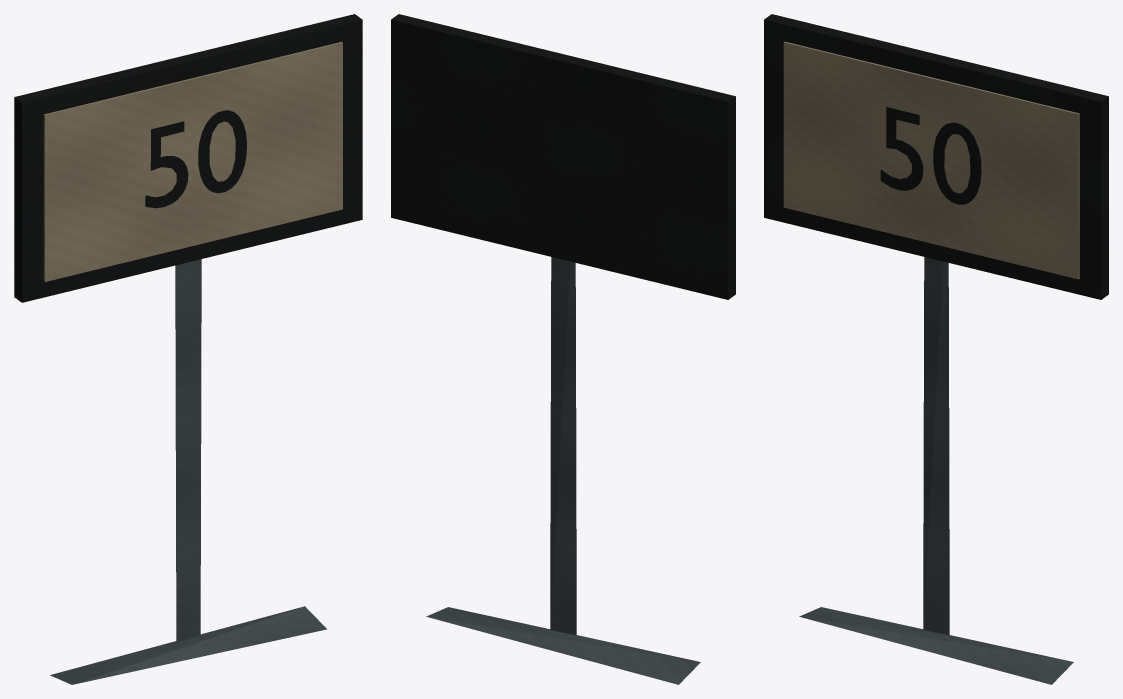
The model's file is braking-board-50-lod.glb.
The picture shows the model from 3 angles, left to right: view 1: azimuth 30°, elevation 25°; view 2: azimuth 150°, elevation 25°; view 3: azimuth 330°, elevation 25°; orthographic projection.
Visible parts, largest first — view 1: braking-board-50-distance-board_2, braking-board-50-distance-board_1, braking-board-50-distance-board_0, distance-50; view 2: braking-board-50-distance-board_1, braking-board-50-distance-board_0; view 3: braking-board-50-distance-board_2, braking-board-50-distance-board_1, braking-board-50-distance-board_0, distance-50.
Part boxes in pixels (bbox=[...]): braking-board-50-distance-board_2: bbox=[43, 42, 342, 281]; braking-board-50-distance-board_1: bbox=[14, 14, 362, 302]; braking-board-50-distance-board_0: bbox=[50, 259, 326, 684]; distance-50: bbox=[145, 110, 246, 208]; braking-board-50-distance-board_1: bbox=[391, 14, 735, 299]; braking-board-50-distance-board_0: bbox=[426, 257, 700, 684]; braking-board-50-distance-board_2: bbox=[783, 41, 1079, 279]; braking-board-50-distance-board_1: bbox=[764, 14, 1108, 299]; braking-board-50-distance-board_0: bbox=[799, 257, 1073, 684]; distance-50: bbox=[880, 107, 981, 204].
Bounding box in the file's own units: 1.05 × 1.75 × 0.12.
3 materials, 3 textured.
